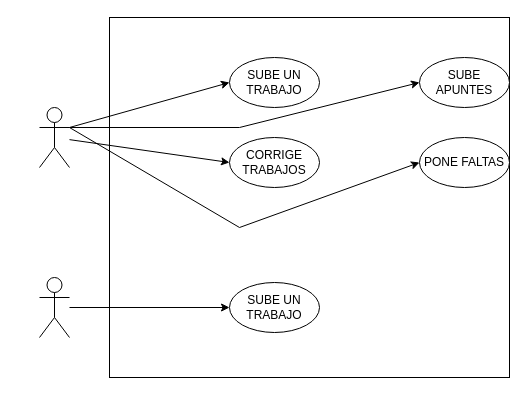
The diagram is 527 pixels wide and 395 high, and some of its shapes have lost their labels. The box of each missing label's shape, as (x1, y1, x2, y2) in pixels:
Aimar: (38, 276, 70, 338)
María Cristina: (38, 106, 70, 168)
